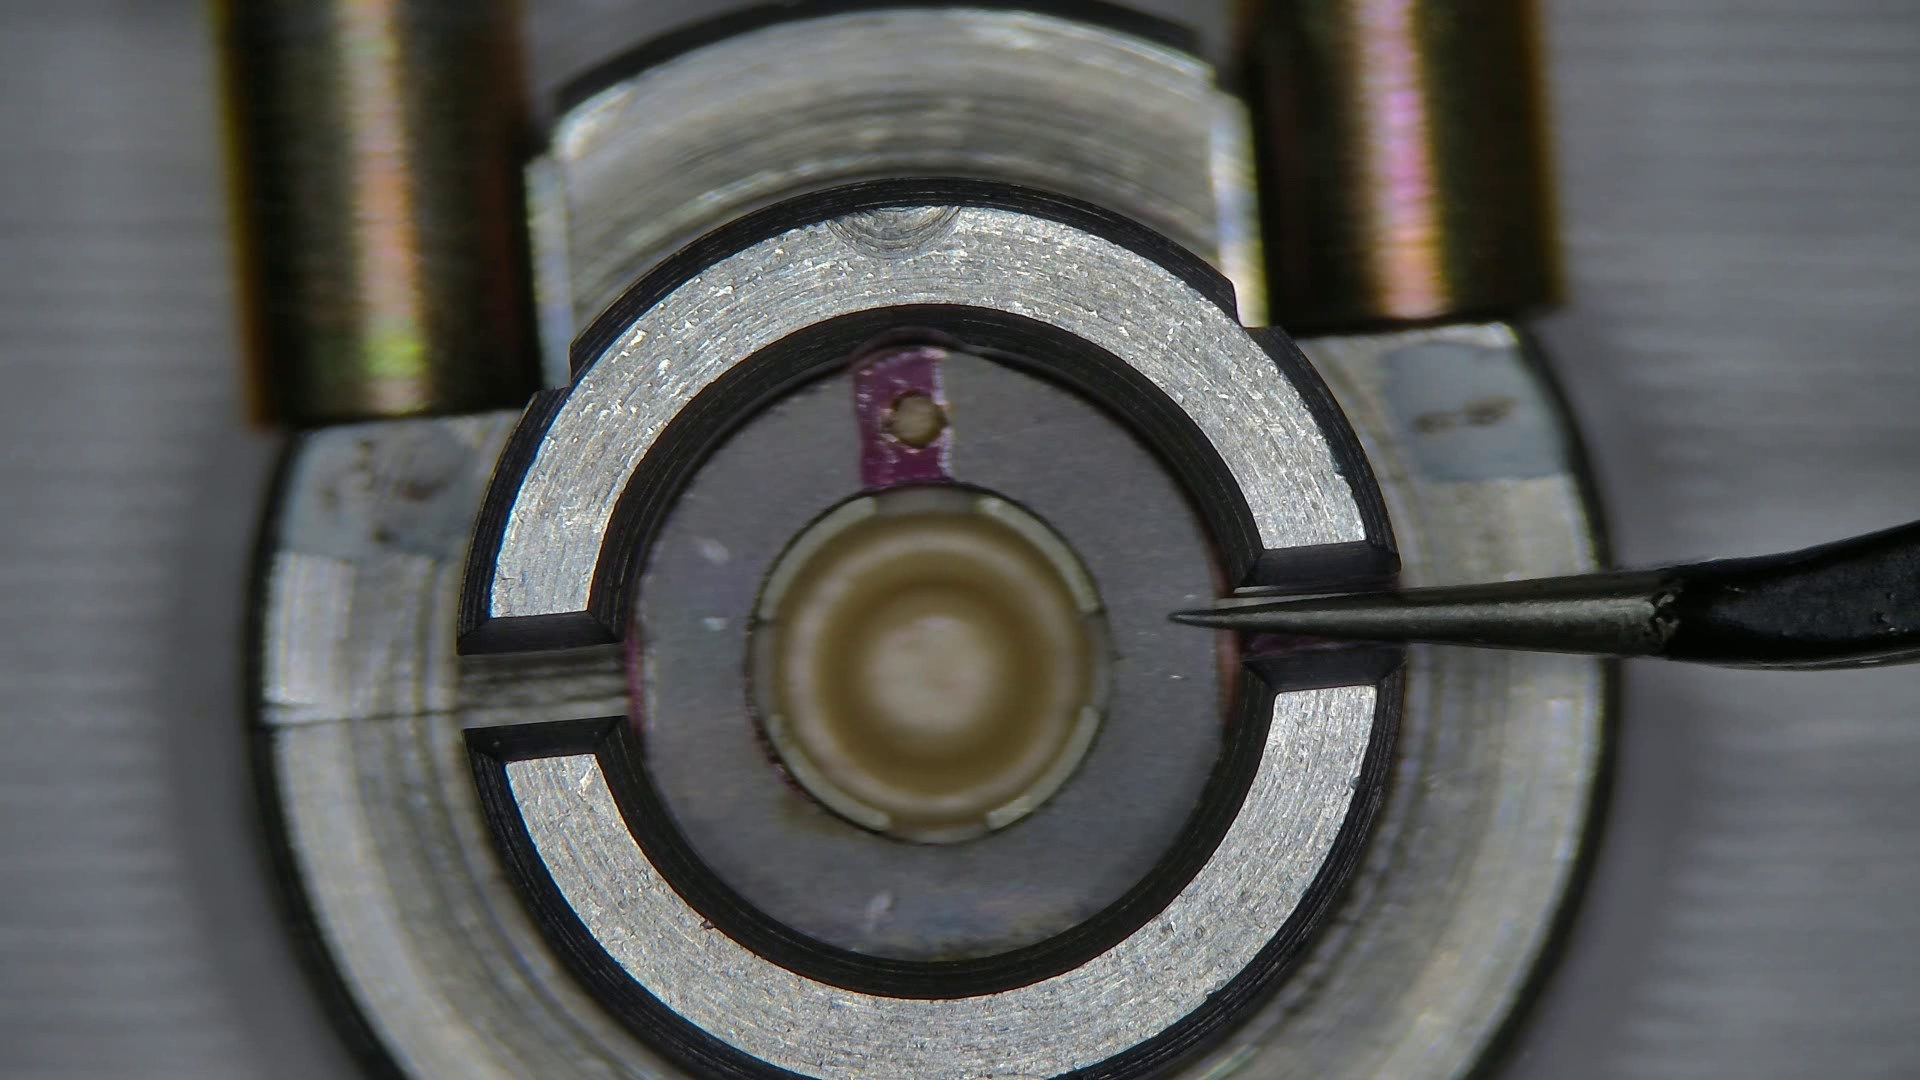YellowOring: (636, 348, 1222, 961)
